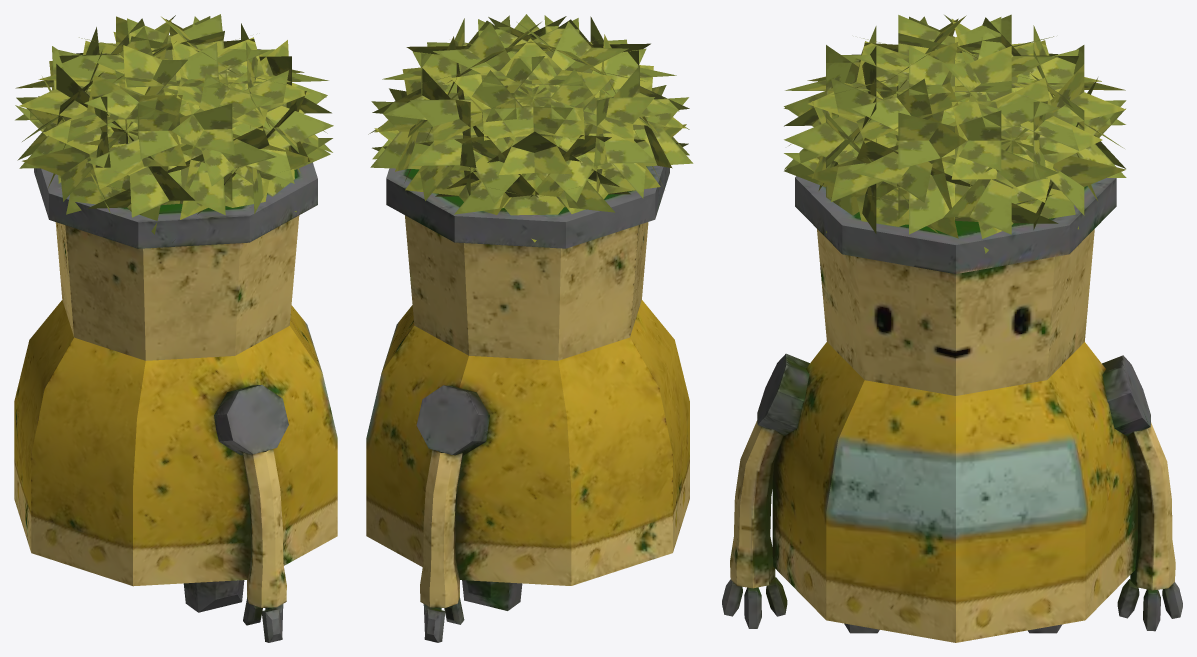
Rendered from pudge.glb.
The picture shows the model from 3 angles, left to right: view 1: azimuth 30°, elevation 25°; view 2: azimuth 150°, elevation 25°; view 3: azimuth 270°, elevation 25°; orthographic projection. The views are drawn at different scales.
Parts seen in each view (by area): view 1: body, Moss_Fern_Blob_2, rightArm, rightFoot; view 2: body, Moss_Fern_Blob_2, leftArm, leftFoot; view 3: body, Moss_Fern_Blob_2, rightArm, leftArm.
Boxes of the visible parts, bbox=[...] form: body: bbox=[14, 162, 337, 586]; Moss_Fern_Blob_2: bbox=[15, 14, 333, 242]; rightArm: bbox=[214, 384, 288, 642]; rightFoot: bbox=[183, 580, 244, 612]; body: bbox=[366, 165, 689, 585]; Moss_Fern_Blob_2: bbox=[368, 14, 693, 242]; leftArm: bbox=[416, 385, 489, 642]; leftFoot: bbox=[462, 580, 522, 610]; body: bbox=[772, 176, 1137, 642]; Moss_Fern_Blob_2: bbox=[784, 14, 1126, 253]; rightArm: bbox=[722, 353, 809, 628]; leftArm: bbox=[1102, 355, 1182, 631].
Bounding box in the file's own units: 1.11 × 1.93 × 1.38.
Materials: 2 (2 with a texture image).
